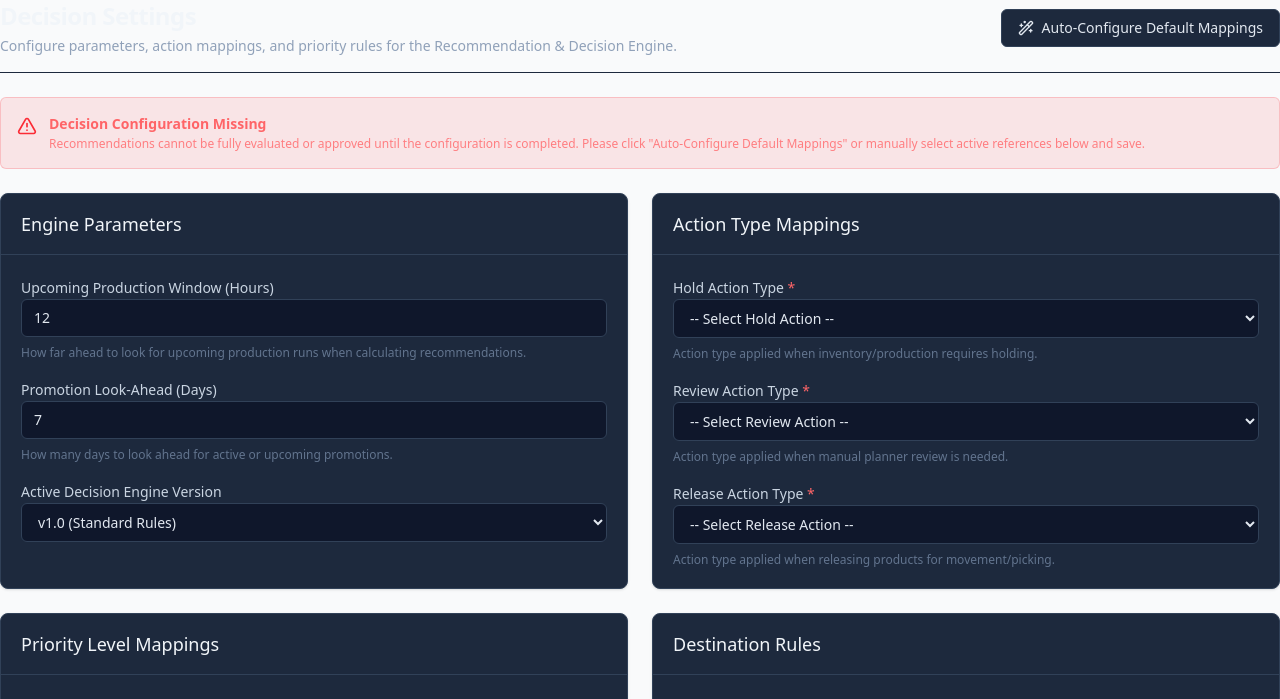
Decision Settings Page Behavior & Auto-Configuration Tests › Planner cannot auto-configure due to restriction
Expected: the text "Decision Configuration Missing" is shown, [49,114,266,133]
Click the button "Auto-Configure Default Mappings".
click(1140, 28)  # box [1001,9,1279,47]
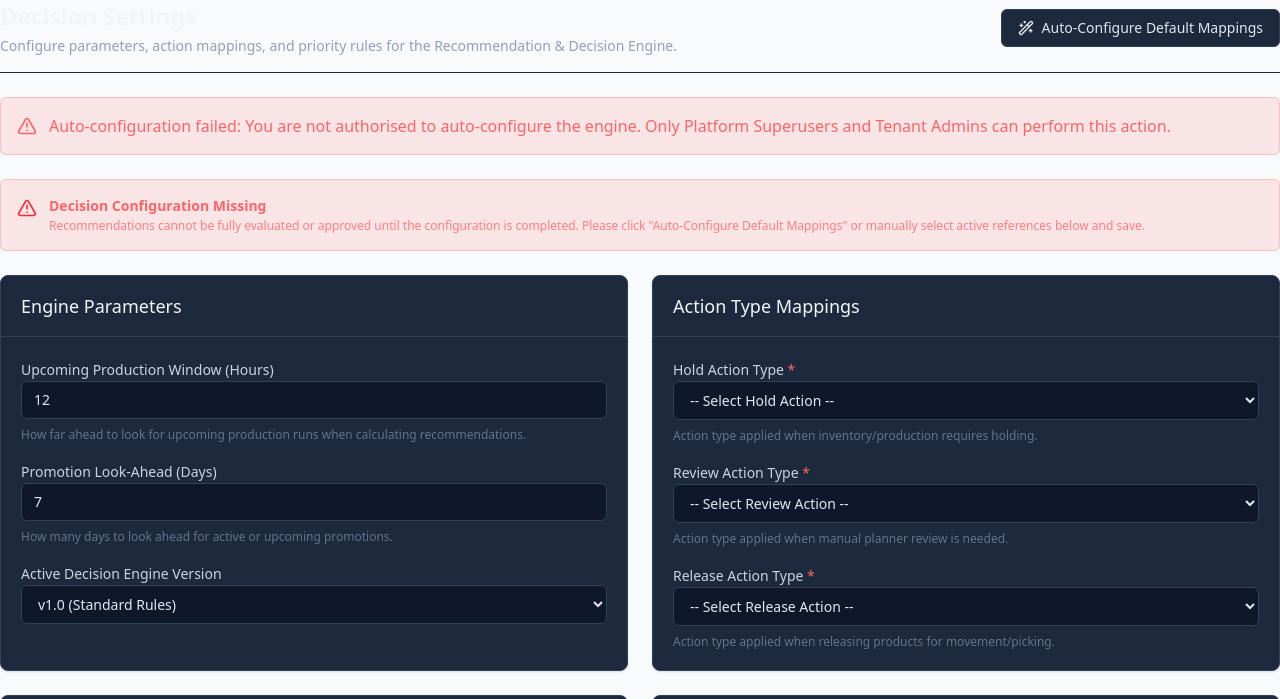
Now the text "You are not authorised to auto-configure" is shown, box [49,115,1171,137]
